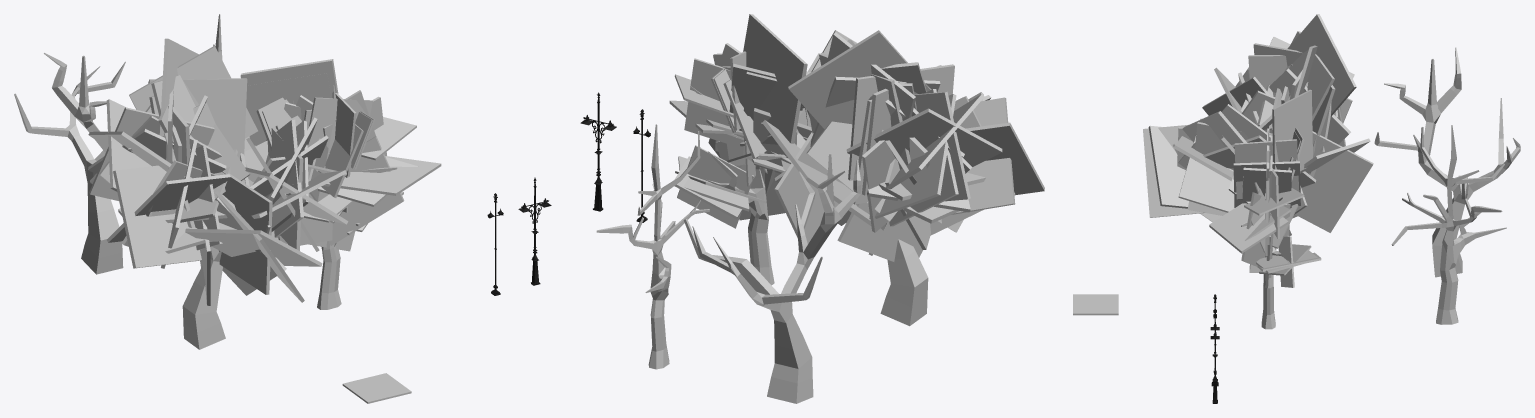
The model's file is tree.fbx.
3 renders of one model, left to right at view 1: azimuth 30°, elevation 25°; view 2: azimuth 150°, elevation 25°; view 3: azimuth 270°, elevation 25°, orthographic. The views are drawn at different scales.
Parts seen in each view (by area): view 1: tree2, tree_leaf2|leaf|Dupli|29, tree_leaf2|leaf|Dupli|42, tree_leaf2, tree_leaf2|leaf|Dupli|16, tree_leaf2|leaf|Dupli|43, tree_leaf|leaf|Dupli|43, tree_leaf|leaf|Dupli|17, tree_leaf2|leaf|Dupli|19, tree_leaf|leaf|Dupli|10, tree_leaf2|leaf|Dupli|28, tree_leaf2|leaf|Dupli|24 (+35 smaller); view 2: tree2, tree, tree_leaf2|leaf|Dupli|20, tree_leaf|leaf|Dupli|44, tree_leaf2|leaf|Dupli|25, tree_leaf2|leaf|Dupli|28, tree_leaf2, tree_leaf2|leaf|Dupli|39, tree_leaf, tree_leaf2|leaf|Dupli|4, tree_leaf2|leaf|Dupli|29, tree_leaf|leaf|Dupli|35 (+33 smaller); view 3: tree2, tree, tree_leaf2|leaf|Dupli|39, tree_leaf2|leaf|Dupli|20, tree_leaf|leaf|Dupli|44, tree_leaf2|leaf|Dupli|37, tree_leaf2|leaf|Dupli|43, tree_leaf|leaf|Dupli|17, tree_leaf2|leaf|Dupli|44, tree_leaf|leaf|Dupli|14, tree_leaf2|leaf|Dupli|18, leaf (+21 smaller).
Boxes of the visible parts, x1,y1,x2,y2 form: tree2: (14, 53, 125, 274); tree_leaf2|leaf|Dupli|29: (113, 165, 201, 268); tree_leaf2|leaf|Dupli|42: (219, 171, 272, 294); tree_leaf2: (128, 148, 293, 349); tree_leaf2|leaf|Dupli|16: (149, 78, 247, 159); tree_leaf2|leaf|Dupli|43: (185, 228, 322, 266); tree_leaf|leaf|Dupli|43: (247, 73, 330, 145); tree_leaf|leaf|Dupli|17: (323, 156, 441, 195); tree_leaf2|leaf|Dupli|19: (129, 46, 257, 138); tree_leaf|leaf|Dupli|10: (328, 136, 404, 245); tree_leaf2|leaf|Dupli|28: (107, 174, 230, 242); tree_leaf2|leaf|Dupli|24: (89, 107, 214, 200); tree2: (683, 153, 860, 403); tree: (596, 124, 709, 369); tree_leaf2|leaf|Dupli|20: (788, 30, 931, 128); tree_leaf|leaf|Dupli|44: (743, 14, 807, 143); tree_leaf2|leaf|Dupli|25: (846, 108, 1002, 166); tree_leaf2|leaf|Dupli|28: (951, 97, 1015, 214); tree_leaf2: (880, 239, 928, 326); tree_leaf2|leaf|Dupli|39: (774, 132, 843, 243); tree_leaf: (690, 86, 774, 285); tree_leaf2|leaf|Dupli|4: (837, 202, 922, 261); tree_leaf2|leaf|Dupli|29: (966, 122, 1044, 195); tree_leaf|leaf|Dupli|35: (684, 58, 743, 146); tree2: (1374, 47, 1520, 277); tree: (1391, 125, 1506, 324); tree_leaf2|leaf|Dupli|39: (1295, 131, 1373, 232); tree_leaf2|leaf|Dupli|20: (1287, 14, 1356, 116); tree_leaf|leaf|Dupli|44: (1272, 89, 1312, 169); tree_leaf2|leaf|Dupli|37: (1178, 118, 1234, 212); tree_leaf2|leaf|Dupli|43: (1148, 125, 1188, 208); tree_leaf|leaf|Dupli|17: (1209, 203, 1288, 253); tree_leaf2|leaf|Dupli|44: (1143, 124, 1204, 217); tree_leaf|leaf|Dupli|14: (1234, 139, 1299, 199); tree_leaf2|leaf|Dupli|18: (1281, 31, 1334, 121); leaf: (1073, 294, 1118, 315).
Bounding box in the file's own units: 1901 × 1231 × 1965.
